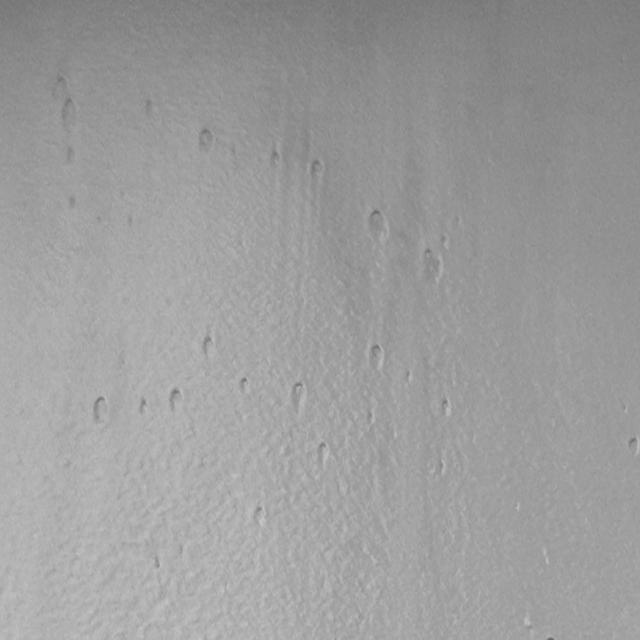pin holes: (365, 209, 390, 243), (419, 249, 444, 282), (89, 394, 113, 426), (286, 382, 308, 414), (58, 100, 78, 133), (166, 385, 187, 414), (197, 128, 218, 156), (311, 441, 332, 468), (368, 343, 388, 371), (266, 148, 286, 176), (199, 334, 218, 362), (142, 98, 162, 124), (249, 503, 268, 528), (310, 159, 328, 185), (438, 395, 455, 421), (51, 73, 70, 96), (137, 394, 153, 420), (62, 146, 80, 169), (432, 458, 449, 481), (625, 434, 640, 460), (65, 192, 82, 214), (238, 374, 253, 397), (365, 407, 376, 433), (439, 233, 453, 251), (404, 368, 416, 387), (126, 216, 136, 236)
